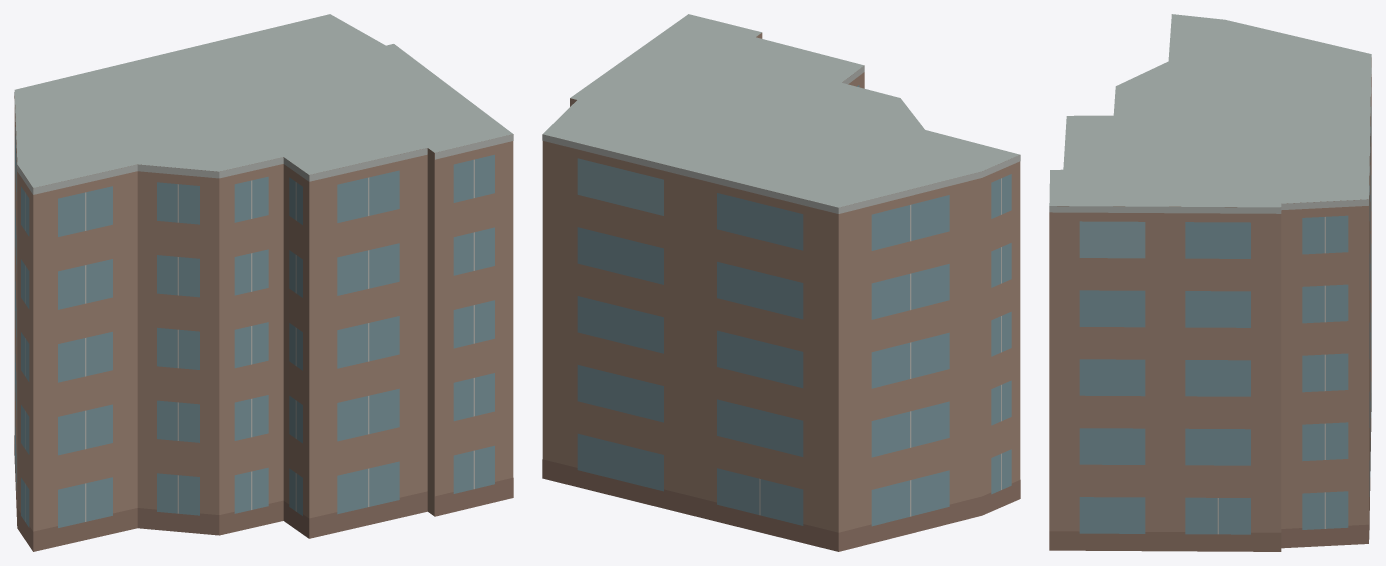
Rendered from survey-upis-32553798.glb.
The picture shows the model from 3 angles, left to right: view 1: azimuth 30°, elevation 25°; view 2: azimuth 150°, elevation 25°; view 3: azimuth 270°, elevation 25°; orthographic projection. The views are drawn at different scales.
Parts seen in each view (by area): view 1: survey-upis-32553798.tmp; view 2: survey-upis-32553798.tmp; view 3: survey-upis-32553798.tmp.
Part boxes in pixels (x1=…): survey-upis-32553798.tmp: x1=14, y1=14, x2=513, y2=551; survey-upis-32553798.tmp: x1=542, y1=14, x2=1020, y2=551; survey-upis-32553798.tmp: x1=1049, y1=14, x2=1371, y2=551.
Size of the model in its own units: 15.66 by 13 by 11.03.
